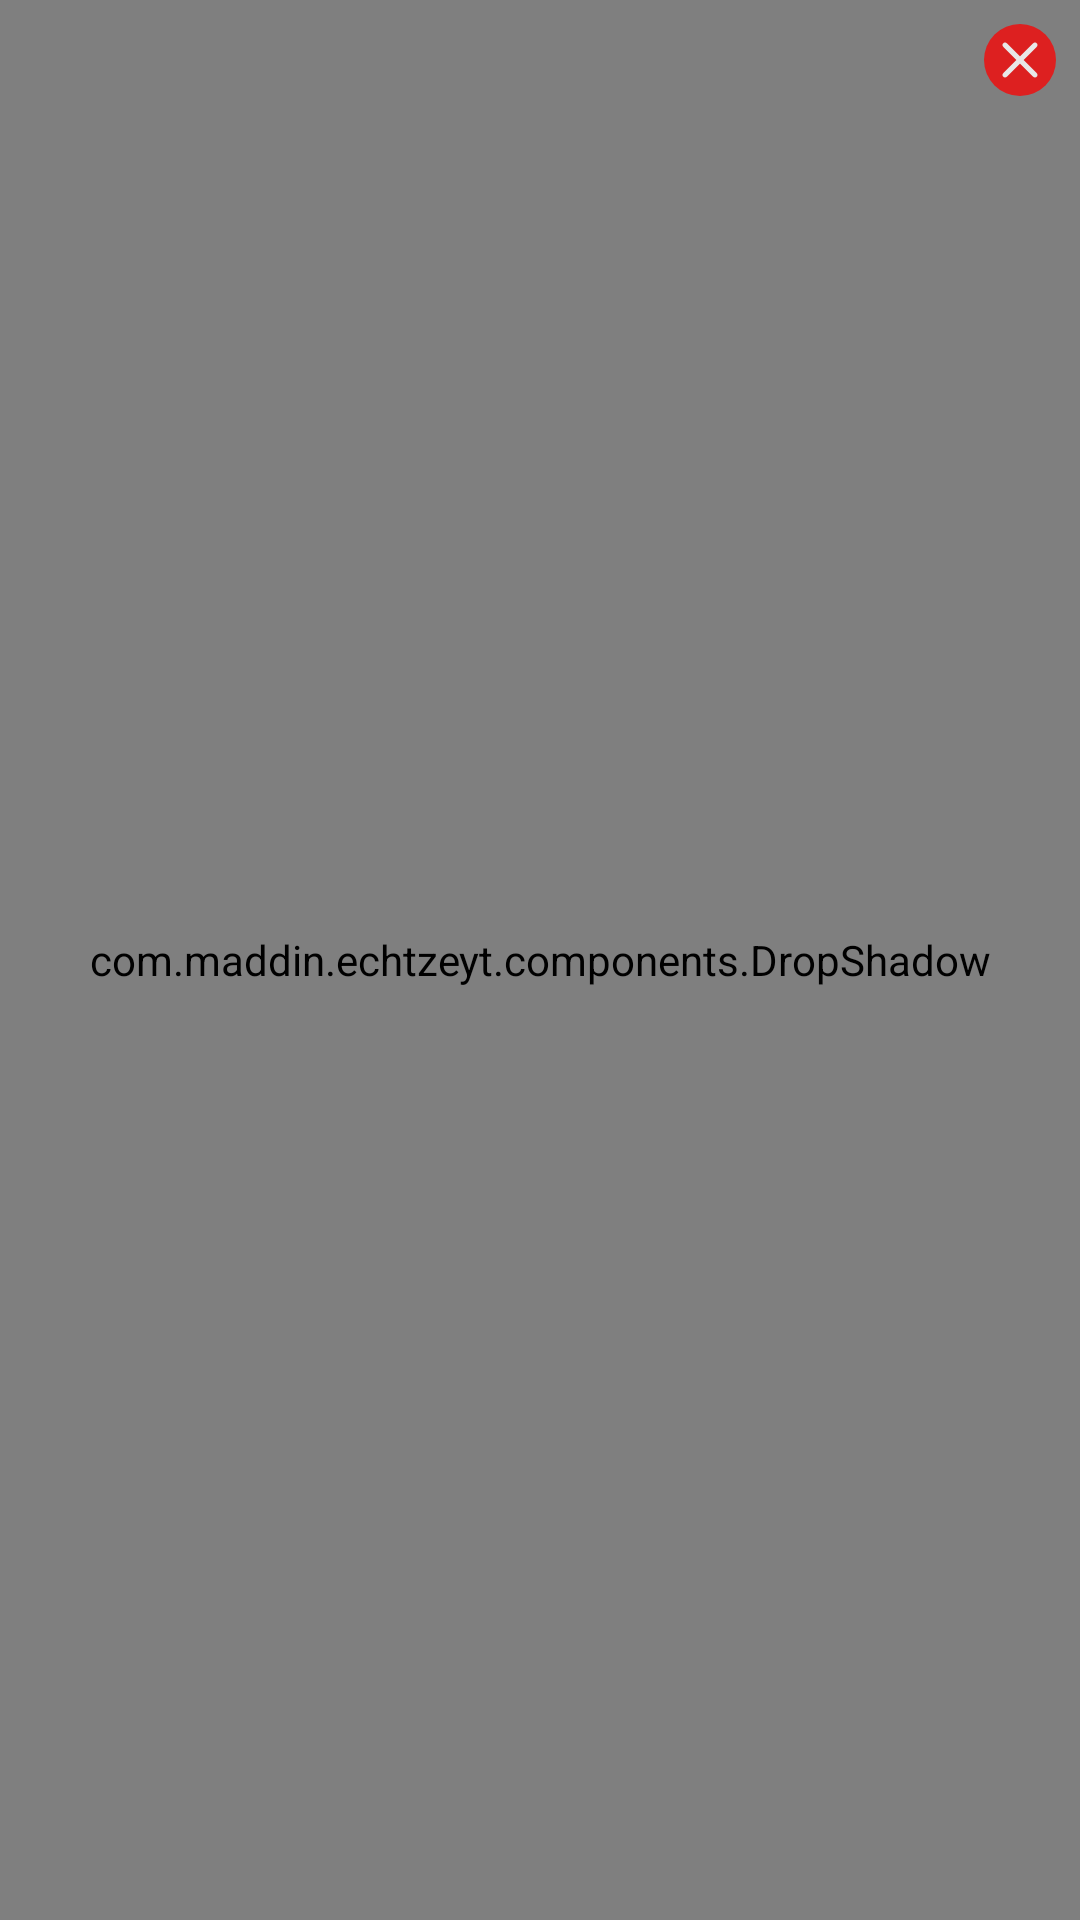

Where to tap for icons on this 1080px x 1920px app screen, as (x=x, y=y):
Close: (x=1020, y=60)
